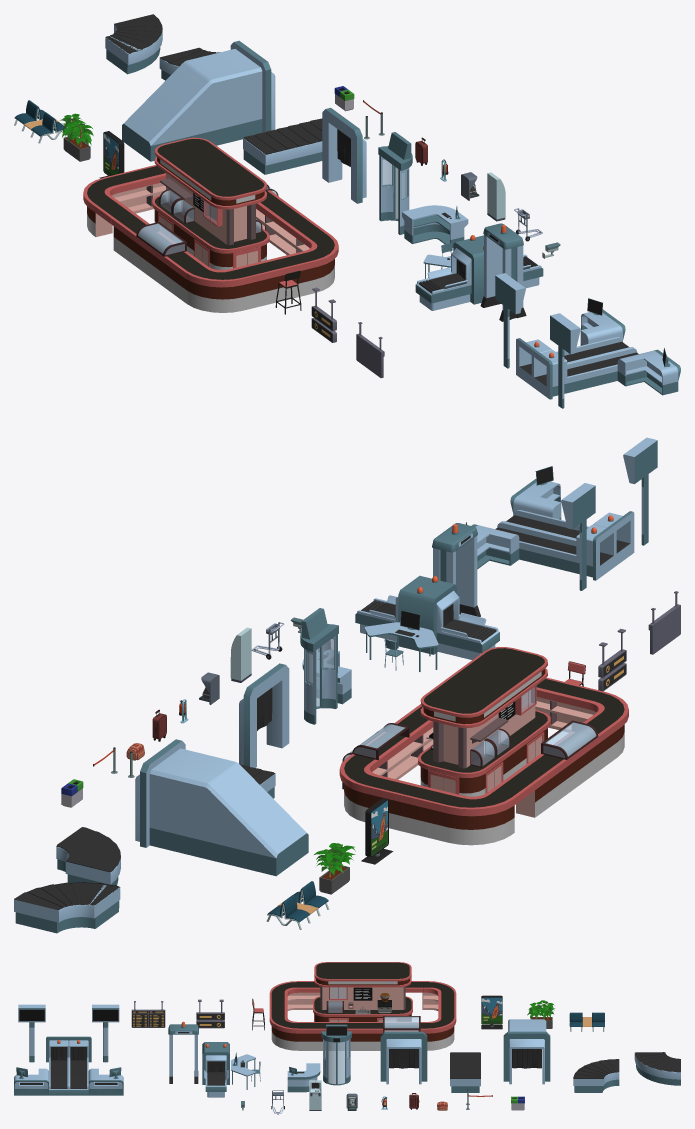
The model's file is airport_inside_building_pack.glb.
3 views of the same model, one above another, from view 1: azimuth 30°, elevation 25°; view 2: azimuth 150°, elevation 25°; view 3: azimuth 270°, elevation 25° (orthographic). The views are drawn at different scales.
Visible parts, largest first — view 1: 13.Cafe, 12.3.BaggageClaimBand, 08.CheckInDesk, 09.SecurityCheck, 11.BoardingAreaDesk, 12.2.BaggageClaimBand, 12.1.BaggageClaimBand, 12.5.BaggageClaimBand, 17.10.Model, 10.Chairs, 16.DepartureSign, 15.Advertising (+3 smaller); view 2: 13.Cafe, 12.3.BaggageClaimBand, 08.CheckInDesk, 09.SecurityCheck, 12.5.BaggageClaimBand, 11.BoardingAreaDesk, 12.1.BaggageClaimBand, 12.4.BaggageClaimBand, 15.Advertising, 17.10.Model, 10.Chairs, 16.DepartureSign (+2 smaller); view 3: 13.Cafe, 08.CheckInDesk, 09.SecurityCheck, 12.3.BaggageClaimBand, 11.BoardingAreaDesk, 12.1.BaggageClaimBand, 12.4.BaggageClaimBand, 12.5.BaggageClaimBand, 12.2.BaggageClaimBand, 15.Advertising, 16.DepartureSign, 17.1.Model (+3 smaller).
Part boxes in pixels (x1=…): 13.Cafe: x1=83, y1=137, x2=338, y2=314; 12.3.BaggageClaimBand: x1=122, y1=40, x2=275, y2=161; 08.CheckInDesk: x1=495, y1=273, x2=680, y2=408; 09.SecurityCheck: x1=415, y1=223, x2=543, y2=321; 11.BoardingAreaDesk: x1=378, y1=132, x2=468, y2=247; 12.2.BaggageClaimBand: x1=243, y1=118, x2=322, y2=174; 12.1.BaggageClaimBand: x1=322, y1=107, x2=366, y2=203; 12.5.BaggageClaimBand: x1=105, y1=14, x2=162, y2=74; 17.10.Model: x1=60, y1=113, x2=93, y2=161; 10.Chairs: x1=14, y1=100, x2=67, y2=143; 16.DepartureSign: x1=356, y1=322, x2=384, y2=377; 15.Advertising: x1=99, y1=131, x2=124, y2=178; 13.Cafe: x1=339, y1=647, x2=628, y2=845; 12.3.BaggageClaimBand: x1=135, y1=739, x2=308, y2=876; 08.CheckInDesk: x1=465, y1=437, x2=657, y2=590; 09.SecurityCheck: x1=355, y1=523, x2=499, y2=671; 12.5.BaggageClaimBand: x1=14, y1=882, x2=120, y2=933; 11.BoardingAreaDesk: x1=300, y1=608, x2=351, y2=724; 12.1.BaggageClaimBand: x1=239, y1=663, x2=289, y2=767; 12.4.BaggageClaimBand: x1=56, y1=827, x2=120, y2=885; 15.Advertising: x1=361, y1=798, x2=393, y2=864; 17.10.Model: x1=314, y1=843, x2=355, y2=894; 10.Chairs: x1=266, y1=881, x2=329, y2=929; 16.DepartureSign: x1=648, y1=591, x2=680, y2=654; 13.Cafe: x1=252, y1=962, x2=456, y2=1050; 08.CheckInDesk: x1=14, y1=1004, x2=123, y2=1095; 09.SecurityCheck: x1=168, y1=1021, x2=260, y2=1097; 12.3.BaggageClaimBand: x1=503, y1=1019, x2=550, y2=1084; 11.BoardingAreaDesk: x1=287, y1=1024, x2=351, y2=1092; 12.1.BaggageClaimBand: x1=380, y1=1031, x2=427, y2=1084; 12.4.BaggageClaimBand: x1=573, y1=1059, x2=619, y2=1092; 12.5.BaggageClaimBand: x1=634, y1=1052, x2=680, y2=1085; 12.2.BaggageClaimBand: x1=450, y1=1052, x2=480, y2=1092; 15.Advertising: x1=481, y1=995, x2=502, y2=1029; 16.DepartureSign: x1=131, y1=1001, x2=165, y2=1027; 17.1.Model: x1=196, y1=999, x2=224, y2=1028.
Size of what is drawn, in the model's own units: 15.04 by 3.66 by 37.92.
1 material, 1 textured.
